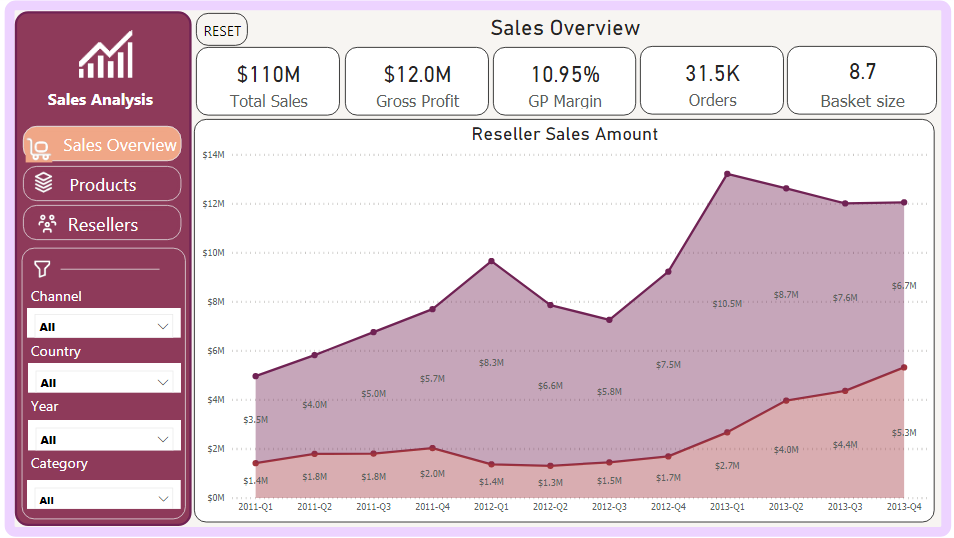

What the dashboard file says about the page in this screenshot:
{"tool":"powerbi","page":{"name":"Sales Overview","canvas":[1280,720],"ordinal":0},"visuals":[{"type":"basicShape","title":"Shape","box":[10.5,0,1269.5,718.9],"z":0},{"type":"actionButton","box":[47.7,172,208.2,46.3],"z":0,"group":"g1"},{"type":"basicShape","title":"Shape","box":[34.7,14.5,237.1,689.6],"z":1000},{"type":"actionButton","box":[47.7,224,208.2,46.3],"z":1000,"group":"g1"},{"type":"actionButton","box":[47.7,276.1,208.2,46.3],"z":2000,"group":"g1"},{"type":"basicShape","box":[43.4,328.2,219.8,364.3],"z":2000},{"type":"image","box":[49.1,339.7,47.7,37.6],"z":3000,"group":"g1"},{"type":"textbox","box":[52,377.3,138.8,36.1],"z":3000},{"type":"image","box":[52,225.5,46.3,40.5],"z":4000,"group":"g1"},{"type":"slicer","fields":{"Values":["DimSalesTerritory.کشور"]},"box":[53.5,482.9,201,39],"z":4000},{"type":"image","box":[52,280.4,56.4,37.6],"z":5000,"group":"g1"},{"type":"slicer","fields":{"Values":["tbl_FactTotalSales.Channel"]},"box":[53,410.6,202,39],"z":5000},{"type":"image","box":[53.5,177.8,40.5,37.6],"z":6000,"group":"g1"},{"type":"slicer","fields":{"Values":["DimDate.Date.Variation.Date Hierarchy.Year"]},"box":[53.5,558.1,201,40.5],"z":6000},{"type":"actionButton","box":[47.7,172,208.2,46.3],"z":7000,"group":"g1"},{"type":"slicer","fields":{"Values":["DimProductSubcategory.EnglishProductSubcategoryName"]},"box":[53,637.6,202,37.6],"z":7000},{"type":"textbox","box":[52,597.1,127.2,40.5],"z":8000},{"type":"textbox","box":[52,521.9,138.8,34.7],"z":9000},{"type":"textbox","box":[52,449.6,138.8,34.7],"z":10000},{"type":"basicShape","box":[86.7,339.8,150.4,40.5],"z":11000},{"type":"textbox","box":[75.2,117.1,161.9,39],"z":12000},{"type":"image","box":[95.4,37.6,118.6,79.5],"z":13000},{"type":"card","title":"Total Sales","fields":{"Values":["Measurs.Basket size"]},"box":[1051.1,66.5,196.6,89.6],"z":14000},{"type":"textbox","title":"Sales Overview","box":[342.7,24.6,834.2,43.4],"z":15000},{"type":"actionButton","box":[274.7,23.1,68,43.4],"z":16000},{"type":"lineChart","title":"Internet Sales Amount","fields":{"Series":["tbl_FactTotalSales.Channel"],"Y":["Sum(tbl_FactTotalSales.SalesAmount)"],"Category":["tbl_FactTotalSales.OrderDate"]},"box":[764.8,161.9,482.9,530.6],"z":17000},{"type":"lineChart","title":"Reseller Sales Amount","fields":{"Series":["tbl_FactTotalSales.Channel"],"Y":["Sum(tbl_FactTotalSales.SalesAmount)"],"Category":["tbl_FactTotalSales.OrderDate"]},"box":[276.1,161.9,482.9,530.6],"z":18000},{"type":"card","title":"Total Sales","fields":{"Values":["Measurs.Order"]},"box":[857.3,66.5,189.4,89.6],"z":19000},{"type":"card","title":"Total Sales","fields":{"Values":["Measurs.Gross Profit Margin"]},"box":[665.1,68,188,89.6],"z":20000},{"type":"card","title":"Total Sales","fields":{"Values":["Measurs.Gross Profit"]},"box":[469.9,68,189.4,89.6],"z":21000},{"type":"card","title":"Total Sales","fields":{"Values":["Measurs.Total Sales"]},"box":[274.7,68,189.4,89.6],"z":22000},{"type":"group","id":"g1","title":"Group 1","box":[47.7,172,208.2,205.3],"z":23000},{"type":"image","box":[46.1,172.4,61.4,46.1],"z":24000}]}

Visuals, with their boxes in screenshot pixels (x1, y1, x2, y2), scaled from the page's 1280x720 canvas onto the 954x538 screenshot:
"Shape" basicShape: 8, 0, 953, 537
actionButton: 36, 129, 191, 163
"Shape" basicShape: 26, 11, 203, 526
actionButton: 36, 167, 191, 202
actionButton: 36, 206, 191, 241
basicShape: 32, 245, 196, 517
image: 37, 254, 72, 282
textbox: 39, 282, 142, 309
image: 39, 168, 73, 199
slicer - DimSalesTerritory.کشور: 40, 361, 190, 390
image: 39, 210, 81, 238
slicer - tbl_FactTotalSales.Channel: 40, 307, 190, 336
image: 40, 133, 70, 161
slicer - DimDate.Date.Variation.Date Hierarchy.Year: 40, 417, 190, 447
actionButton: 36, 129, 191, 163
slicer - DimProductSubcategory.EnglishProductSubcategoryName: 40, 476, 190, 505
textbox: 39, 446, 134, 476
textbox: 39, 390, 142, 416
textbox: 39, 336, 142, 362
basicShape: 65, 254, 177, 284
textbox: 56, 87, 177, 117
image: 71, 28, 159, 87
"Total Sales" card: 783, 50, 930, 117
"Sales Overview" textbox: 255, 18, 877, 51
actionButton: 205, 17, 255, 50
"Internet Sales Amount" lineChart: 570, 121, 930, 517
"Reseller Sales Amount" lineChart: 206, 121, 566, 517
"Total Sales" card: 639, 50, 780, 117
"Total Sales" card: 496, 51, 636, 118
"Total Sales" card: 350, 51, 491, 118
"Total Sales" card: 205, 51, 346, 118
"Group 1" group: 36, 129, 191, 282
image: 34, 129, 80, 163
